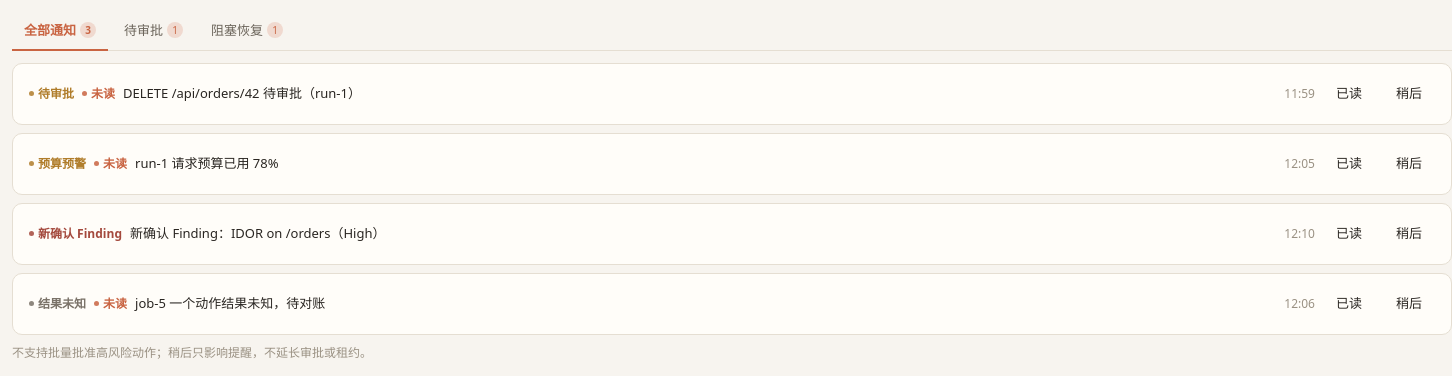
Test case: InboxPage（§16.23） › 分类通知 + 审批 Tab + 阻塞恢复向导
The image size is (1452, 376).
Later steps or results of the test are not shown.
Expected: the text "DELETE /api/orders/42 待审批（run-1）" is shown, x1=123 y1=83 x2=361 y2=104
Click the tab "阻塞恢复 1" at (247, 31), box x1=199 y1=12 x2=295 y2=51
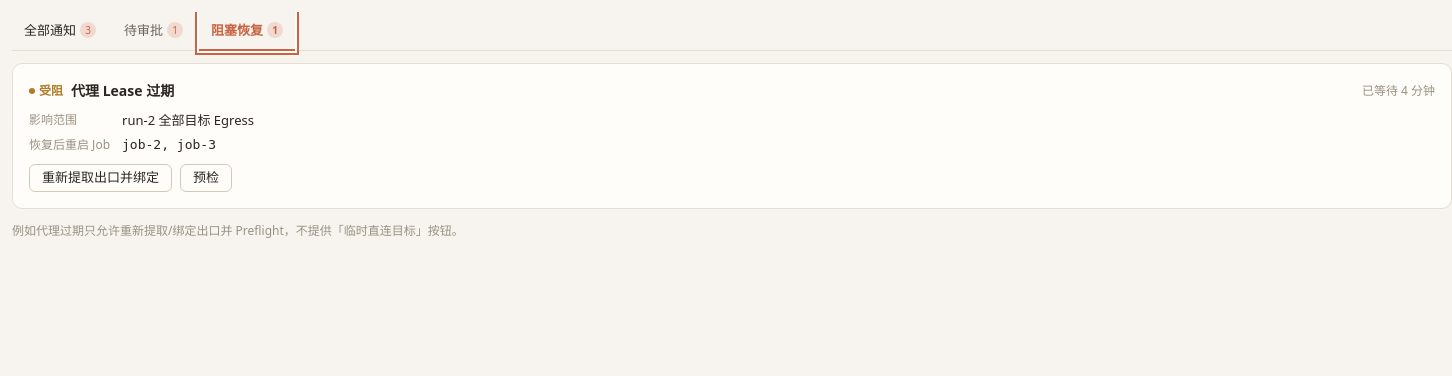
Expected: the text "代理 Lease 过期" is shown, x1=71 y1=80 x2=174 y2=102
